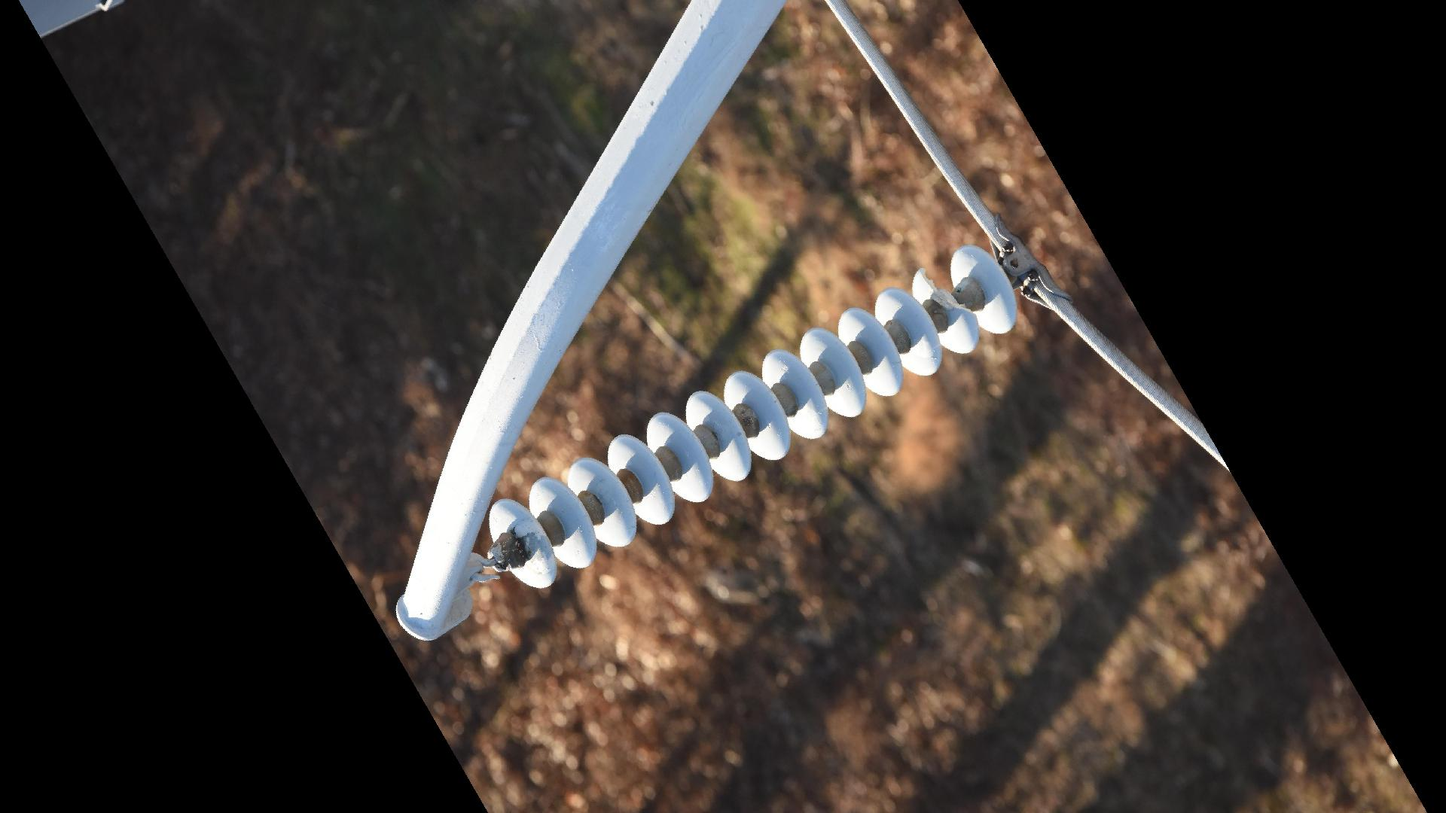insulator: (484, 241, 1021, 592)
insulator_breakage: (912, 263, 978, 322)
insulator_flashover: (523, 531, 553, 562)
